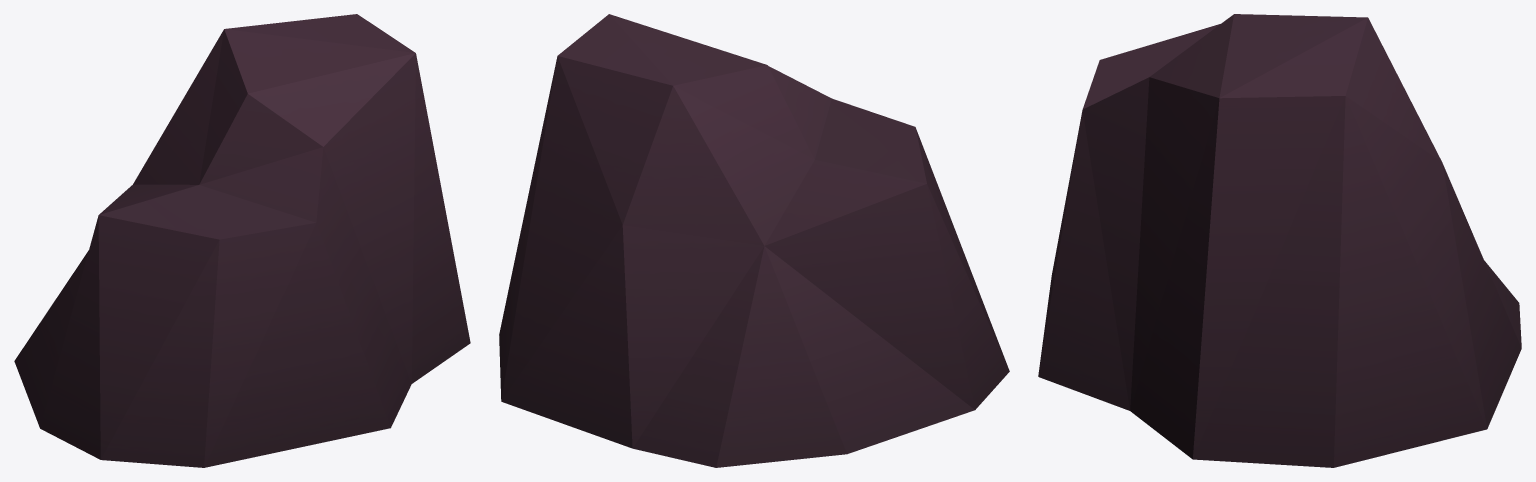
The model's file is SM_Rock_base_14.fbx.
The picture shows the model from 3 angles, left to right: view 1: azimuth 30°, elevation 25°; view 2: azimuth 150°, elevation 25°; view 3: azimuth 270°, elevation 25°; orthographic projection. The views are drawn at different scales.
Visible parts, largest first — view 1: Rock_base_14; view 2: Rock_base_14; view 3: Rock_base_14.
Part boxes in pixels (x1,y1,x2,y2): Rock_base_14: [14, 14, 470, 467]; Rock_base_14: [499, 14, 1009, 467]; Rock_base_14: [1038, 14, 1521, 467].
Bounding box in the file's own units: 256 × 173 × 219.
1 material, 1 textured.
